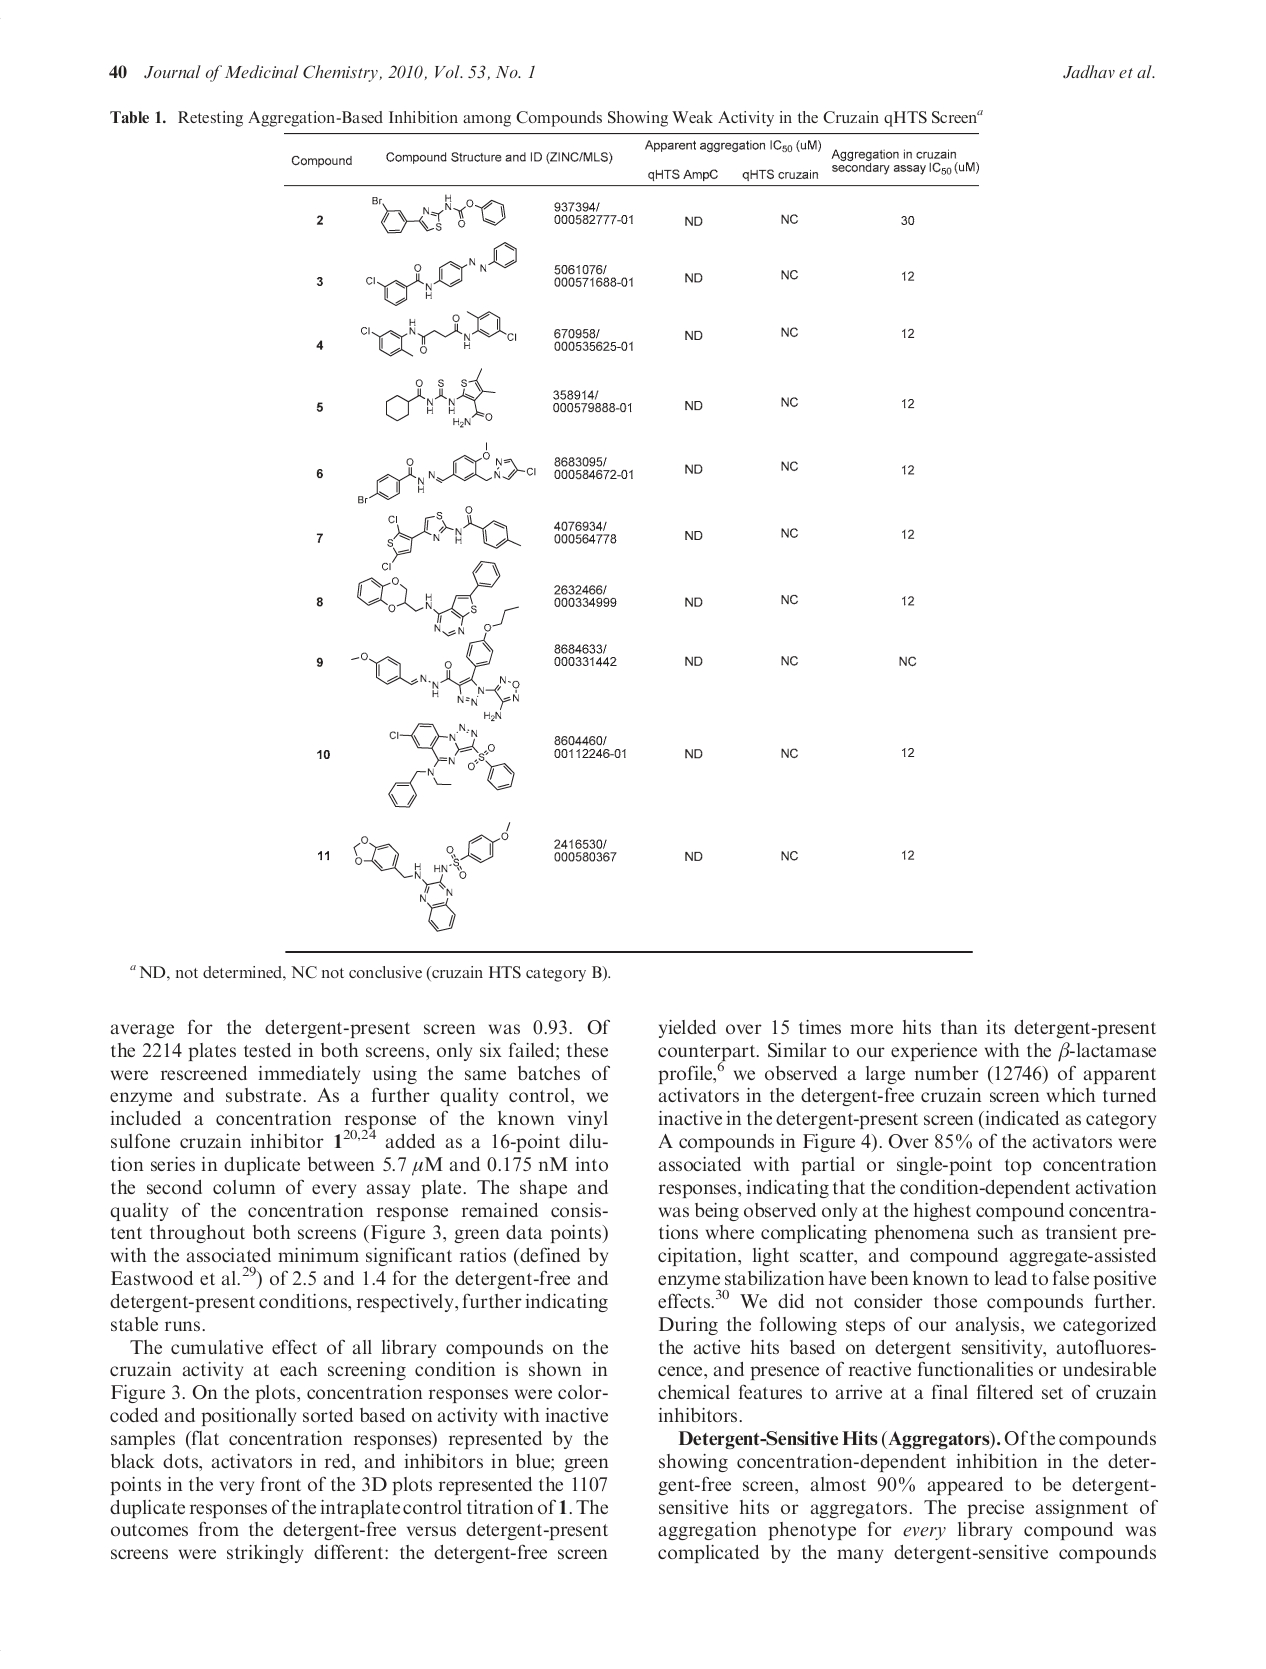exist_molecular: (350, 604, 524, 722), (351, 817, 515, 934), (355, 438, 539, 505), (387, 721, 517, 810), (355, 559, 503, 637), (366, 239, 520, 309), (378, 504, 524, 572), (359, 309, 519, 358), (383, 364, 497, 430), (370, 194, 507, 234)
